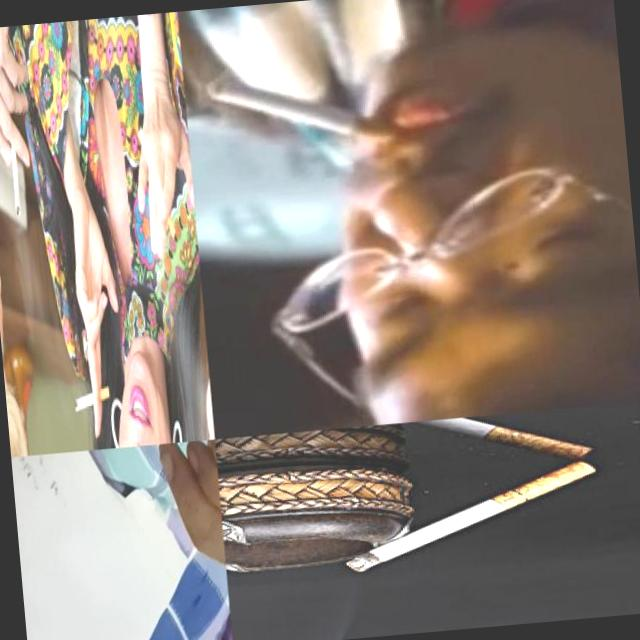smoke: (334, 456, 604, 576), (205, 58, 406, 161), (136, 124, 176, 242), (73, 382, 111, 413), (8, 136, 22, 218)
